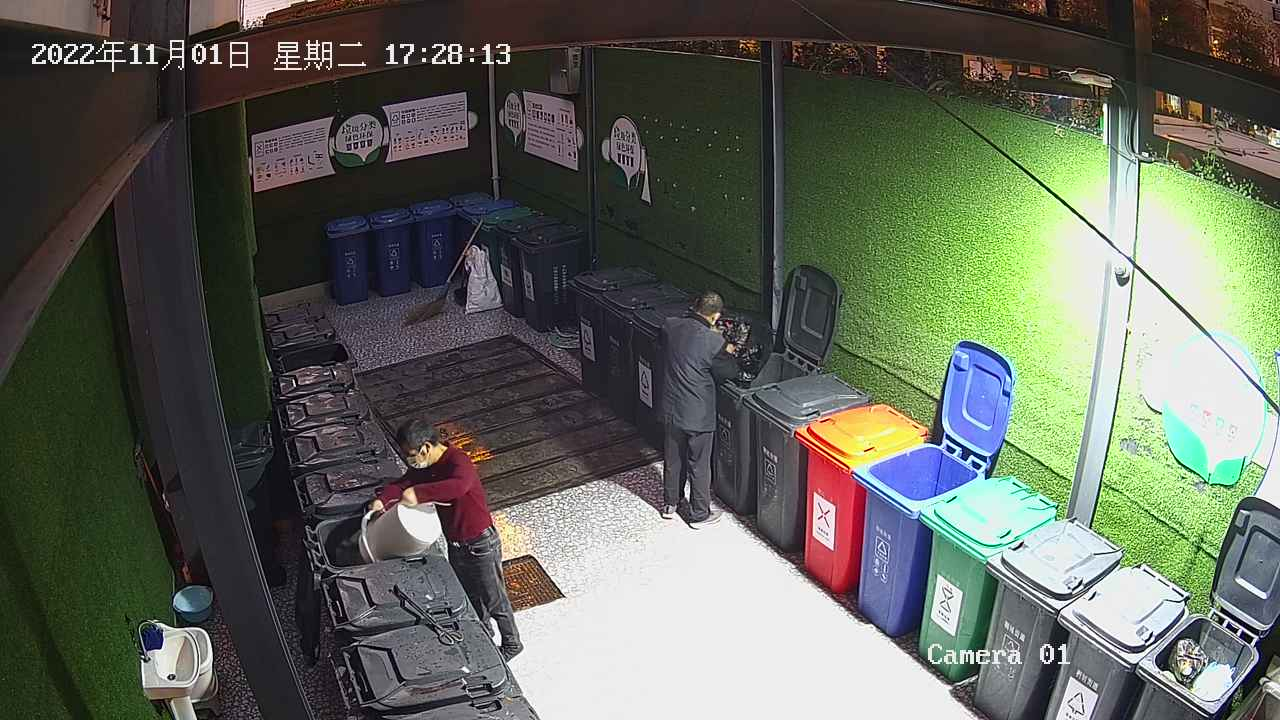person: (366, 416, 525, 665), (655, 288, 739, 529)
youtong: (358, 499, 445, 565)
